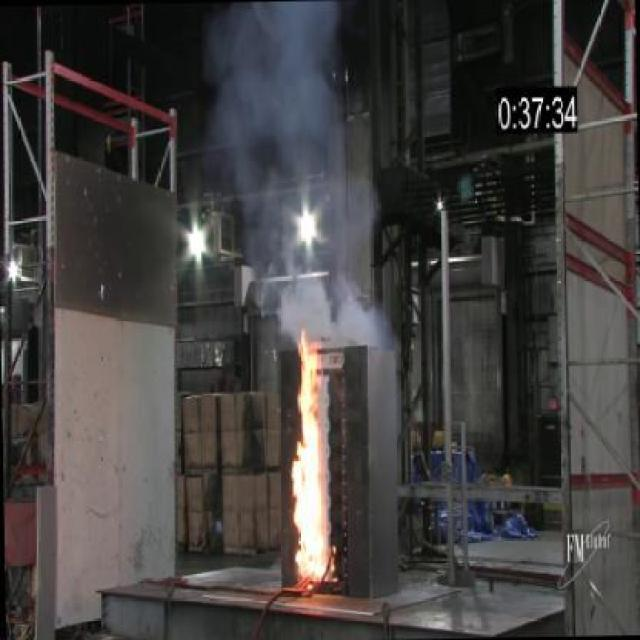fire: (199, 3, 347, 263)
smoke: (280, 332, 346, 588)
